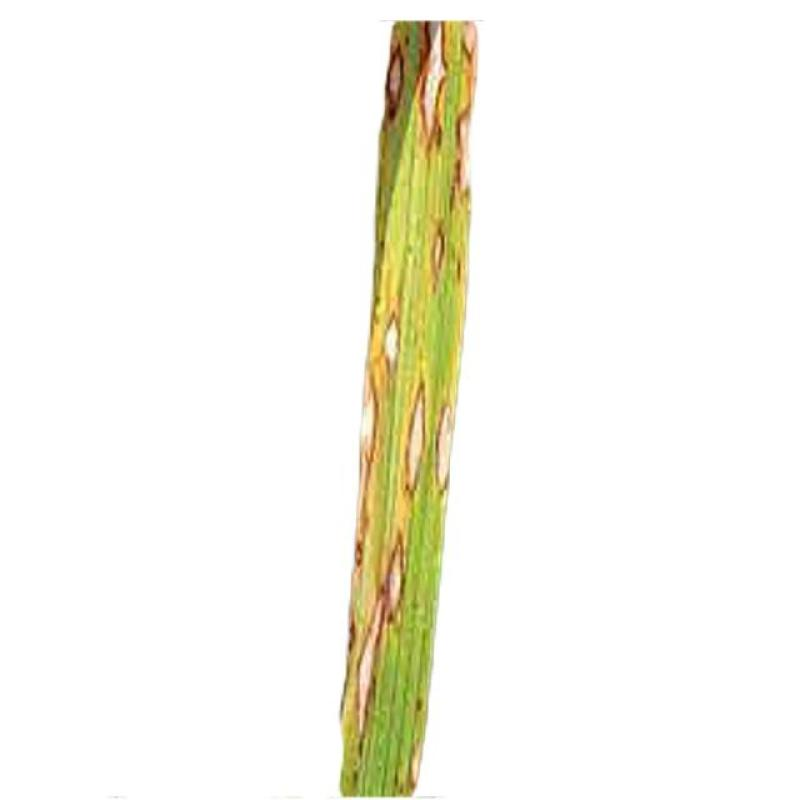Leaf_Blast: (332, 551, 432, 729), (406, 375, 470, 509), (349, 320, 400, 482), (436, 11, 481, 189), (376, 28, 425, 152), (385, 725, 435, 795), (430, 213, 474, 282)
